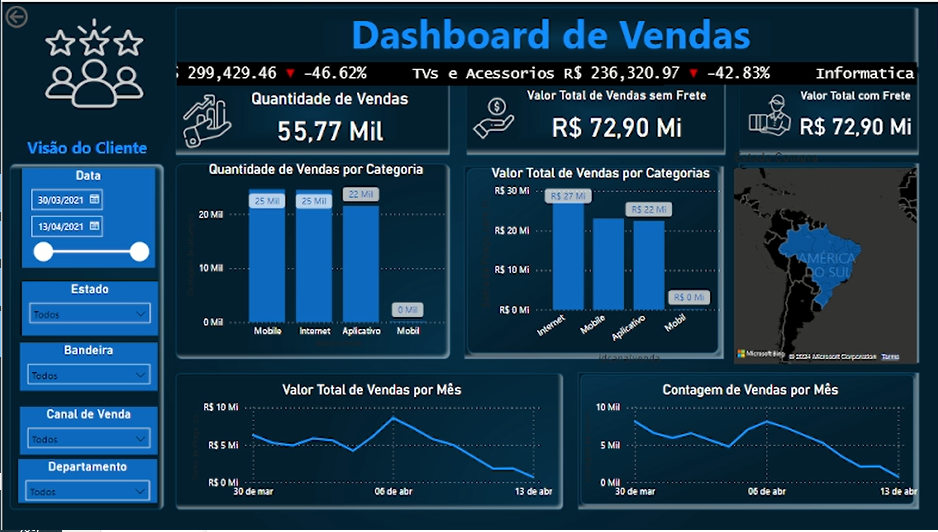

What the dashboard file says about the page in this screenshot:
{"tool":"powerbi","page":{"name":"Vendas","canvas":[1280,720],"ordinal":0},"visuals":[{"type":"card","title":"Quantidade de Vendas","fields":{"Values":["Count(base compra.idcompra)"]},"box":[294.8,117.6,297.6,82.2],"z":0},{"type":"card","title":"Valor Total de Vendas sem Frete","fields":{"Values":["Sum(base compra.Preço_com_frete)"]},"box":[640.6,116.2,382.7,82.2],"z":1000},{"type":"ScrollingTextVisual1448795304508","title":"Valor Total de Vendas com Frete","fields":{"Measure Absolute":["Sum(base compra.Preço)"],"Category":["base compra.Nome_Departamento"],"Measure Deviation":["base compra.% crescimento do faturamento"]},"box":[231,76.5,1012,41.1],"z":2000},{"type":"slicer","title":"Bandeira","fields":{"Values":["base compra.bandeira"]},"box":[24.5,461.2,185.7,65.3],"z":3000},{"type":"slicer","title":"Canal de Venda","fields":{"Values":["base compra.idcanalvenda"]},"box":[24.5,546.9,185.7,65.3],"z":4000},{"type":"slicer","title":"Departamento","fields":{"Values":["base compra.Nome_Departamento"]},"box":[22.4,618.4,187.8,59.2],"z":5000},{"type":"lineChart","title":"Contagem de Vendas por Mês","fields":{"Category":["base compra.Data.Variation.Hierarquia de datas.Ano","base compra.Data.Variation.Hierarquia de datas.Mês","base compra.Data.Variation.Hierarquia de datas.Dia"],"Y":["CountNonNull(base compra.idcompra)"]},"box":[780.9,513.1,462,165.8],"z":6000},{"type":"lineChart","title":"Valor Total de Vendas por Mês","fields":{"Y":["Sum(base compra.Preço_com_frete)"],"Category":["base compra.Data.Variation.Hierarquia de datas.Ano","base compra.Data.Variation.Hierarquia de datas.Mês","base compra.Data.Variation.Hierarquia de datas.Dia"]},"box":[250.9,513.1,498.9,165.8],"z":7000},{"type":"lineStackedColumnComboChart","title":"Quantidade de Vendas por Categoria","fields":{"Category":["base compra.idcanalvenda"],"Y":["Count(base compra.idcompra)"]},"box":[243.8,215.4,361.4,256.5],"z":8000},{"type":"lineStackedColumnComboChart","title":"Valor Total de Vendas por Categorias","fields":{"Category":["base compra.idcanalvenda"],"Y":["Sum(base compra.Preço_com_frete)"]},"box":[640.6,221.1,338.7,273.5],"z":9000},{"type":"actionButton","box":[0,0,100,40],"z":10000},{"type":"slicer","title":"Estado","fields":{"Values":["base compra.estado"]},"box":[26.5,377.6,183.7,73.5],"z":11000},{"type":"textbox","box":[24.9,177.3,181.5,42.9],"z":12000},{"type":"textbox","box":[211.4,0,1068.6,77.1],"z":13000},{"type":"slicer","title":"Data","fields":{"Values":["base compra.Data"]},"box":[26.5,224.5,179.6,134.7],"z":14000},{"type":"filledMap","fields":{"Category":["base compra.Estado Compra","base compra.estado"]},"box":[985,199.8,258,294.8],"z":15000},{"type":"card","title":"Valor Total com Frete","fields":{"Values":["Sum(base compra.Preço_com_frete)"]},"box":[1053.1,116.2,202.7,82.2],"z":16000}]}

Visuals, with their boxes in screenshot pixels (x1, y1, x2, y2), scaled from the page's 1280x720 canvas onto the 938x532 screenshot:
"Quantidade de Vendas" card: {"left": 216, "top": 87, "right": 434, "bottom": 148}
"Valor Total de Vendas sem Frete" card: {"left": 469, "top": 86, "right": 750, "bottom": 147}
"Valor Total de Vendas com Frete" ScrollingTextVisual1448795304508: {"left": 169, "top": 57, "right": 911, "bottom": 87}
"Bandeira" slicer: {"left": 18, "top": 341, "right": 154, "bottom": 389}
"Canal de Venda" slicer: {"left": 18, "top": 404, "right": 154, "bottom": 452}
"Departamento" slicer: {"left": 16, "top": 457, "right": 154, "bottom": 501}
"Contagem de Vendas por Mês" lineChart: {"left": 572, "top": 379, "right": 911, "bottom": 502}
"Valor Total de Vendas por Mês" lineChart: {"left": 184, "top": 379, "right": 549, "bottom": 502}
"Quantidade de Vendas por Categoria" lineStackedColumnComboChart: {"left": 179, "top": 159, "right": 443, "bottom": 349}
"Valor Total de Vendas por Categorias" lineStackedColumnComboChart: {"left": 469, "top": 163, "right": 718, "bottom": 365}
actionButton: {"left": 0, "top": 0, "right": 73, "bottom": 30}
"Estado" slicer: {"left": 19, "top": 279, "right": 154, "bottom": 333}
textbox: {"left": 18, "top": 131, "right": 151, "bottom": 163}
textbox: {"left": 155, "top": 0, "right": 937, "bottom": 57}
"Data" slicer: {"left": 19, "top": 166, "right": 151, "bottom": 265}
filledMap - base compra.Estado Compra x base compra.estado: {"left": 722, "top": 148, "right": 911, "bottom": 365}
"Valor Total com Frete" card: {"left": 772, "top": 86, "right": 920, "bottom": 147}
